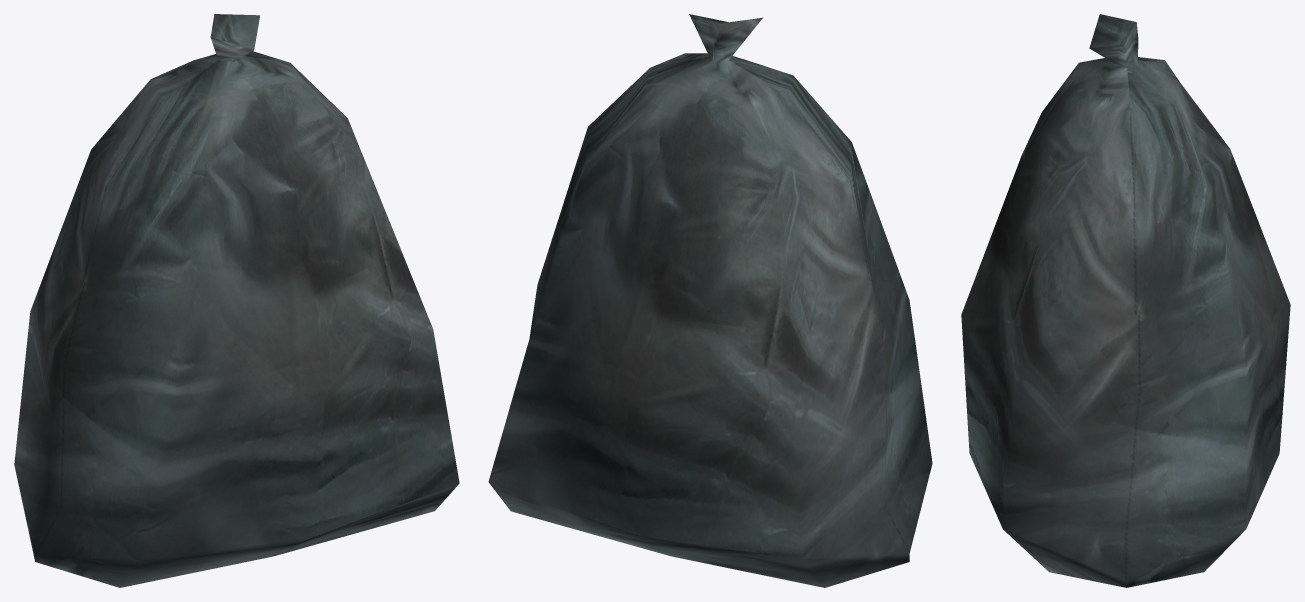
File: M_Home_Garden_garbage3.fbx
The picture shows the model from 3 angles, left to right: view 1: azimuth 30°, elevation 25°; view 2: azimuth 150°, elevation 25°; view 3: azimuth 270°, elevation 25°; orthographic projection. The views are drawn at different scales.
Parts seen in each view (by area): view 1: M_Home_Garden_garbage3; view 2: M_Home_Garden_garbage3; view 3: M_Home_Garden_garbage3.
Boxes of the visible parts, left/top/right/bottom form: M_Home_Garden_garbage3: left=14, top=14, right=459, bottom=587; M_Home_Garden_garbage3: left=488, top=14, right=932, bottom=587; M_Home_Garden_garbage3: left=961, top=14, right=1290, bottom=587.
Size of the model in its own units: 77.48 by 94.83 by 60.08.
